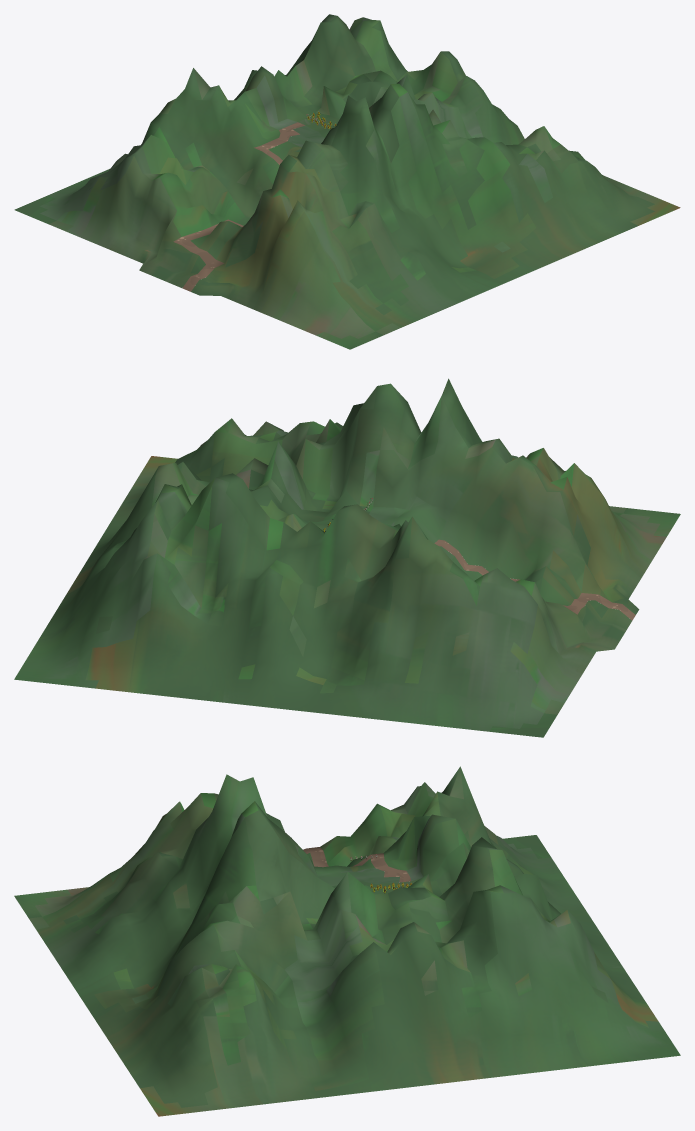
File: mountain_pass_armies.glb
3 renders of one model, top to bottom at view 1: azimuth 30°, elevation 25°; view 2: azimuth 150°, elevation 25°; view 3: azimuth 270°, elevation 25°, orthographic. The views are drawn at different scales.
Visible parts, largest first — view 1: Landscape.012; view 2: Landscape.012; view 3: Landscape.012.
Boxes of the visible parts, <box> form: Landscape.012: <box>14,14,680,349</box>; Landscape.012: <box>14,378,680,737</box>; Landscape.012: <box>14,766,680,1116</box>.
Size of the model in its own units: 49.21 by 14.82 by 49.21.
Materials: 14 (14 with a texture image).
